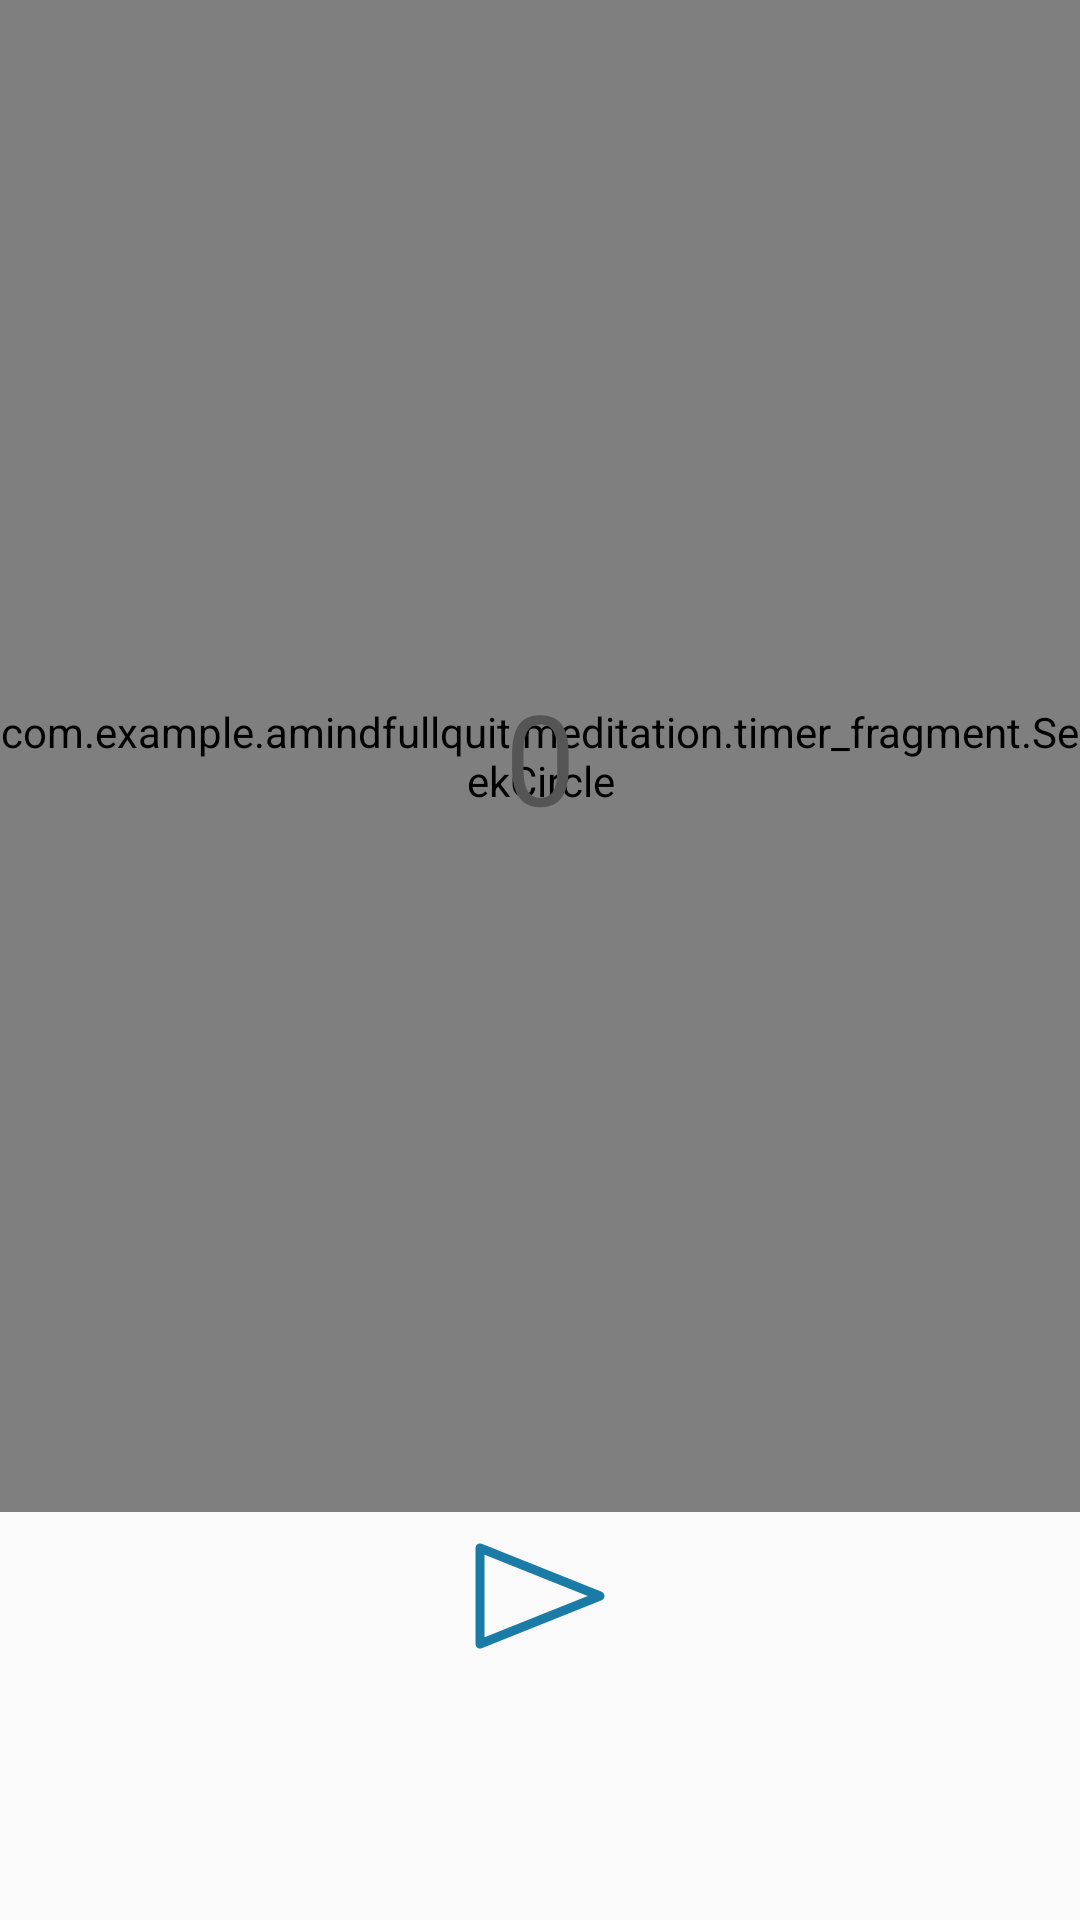

Icons on this 1080px×1920px Android screen, each with the point to tap as [x,y]:
play: [540,1596]
